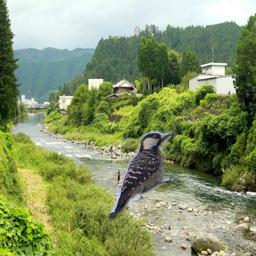Woodpecker: (103, 127, 179, 226)
